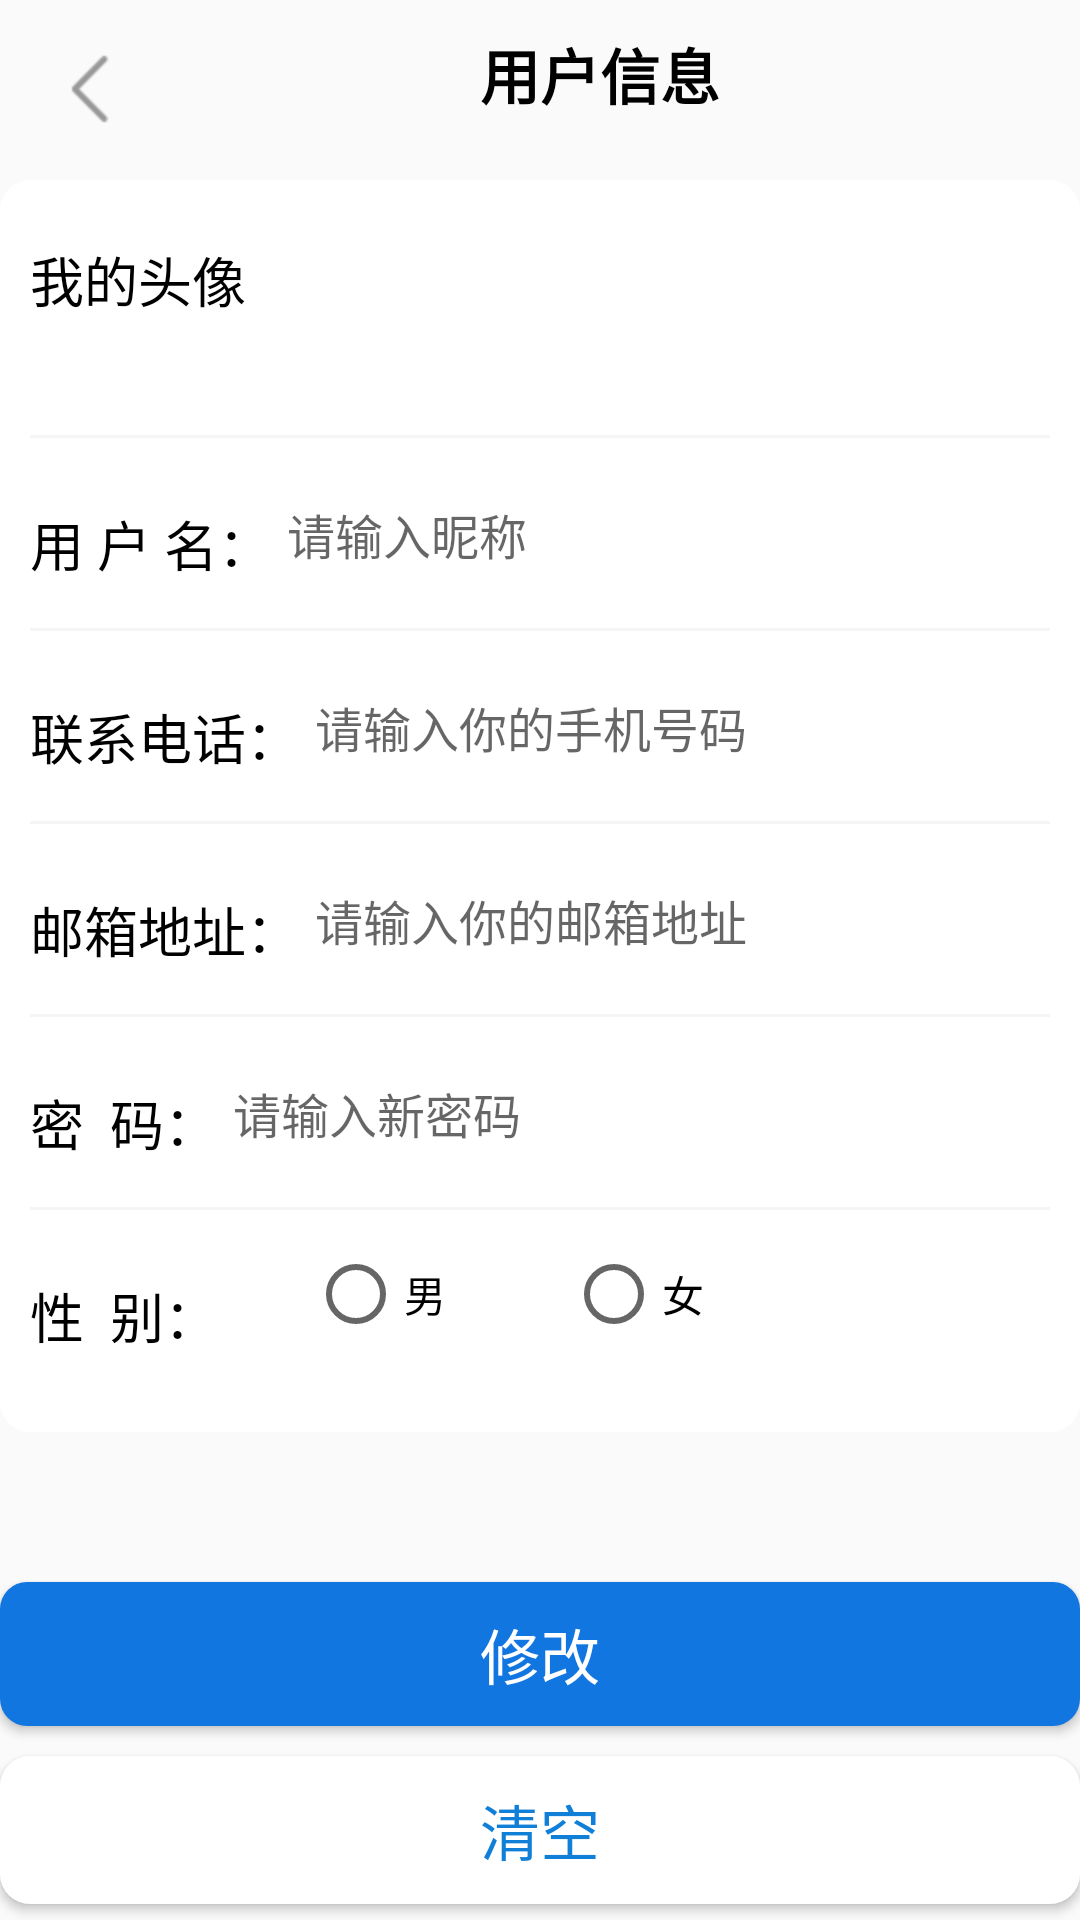

Locate icon controls on the screen. Image size 1080px×1920px, boxes as bbox=(x1, y1, x2, y2).
top bar left back: bbox=(72, 56, 108, 122)
